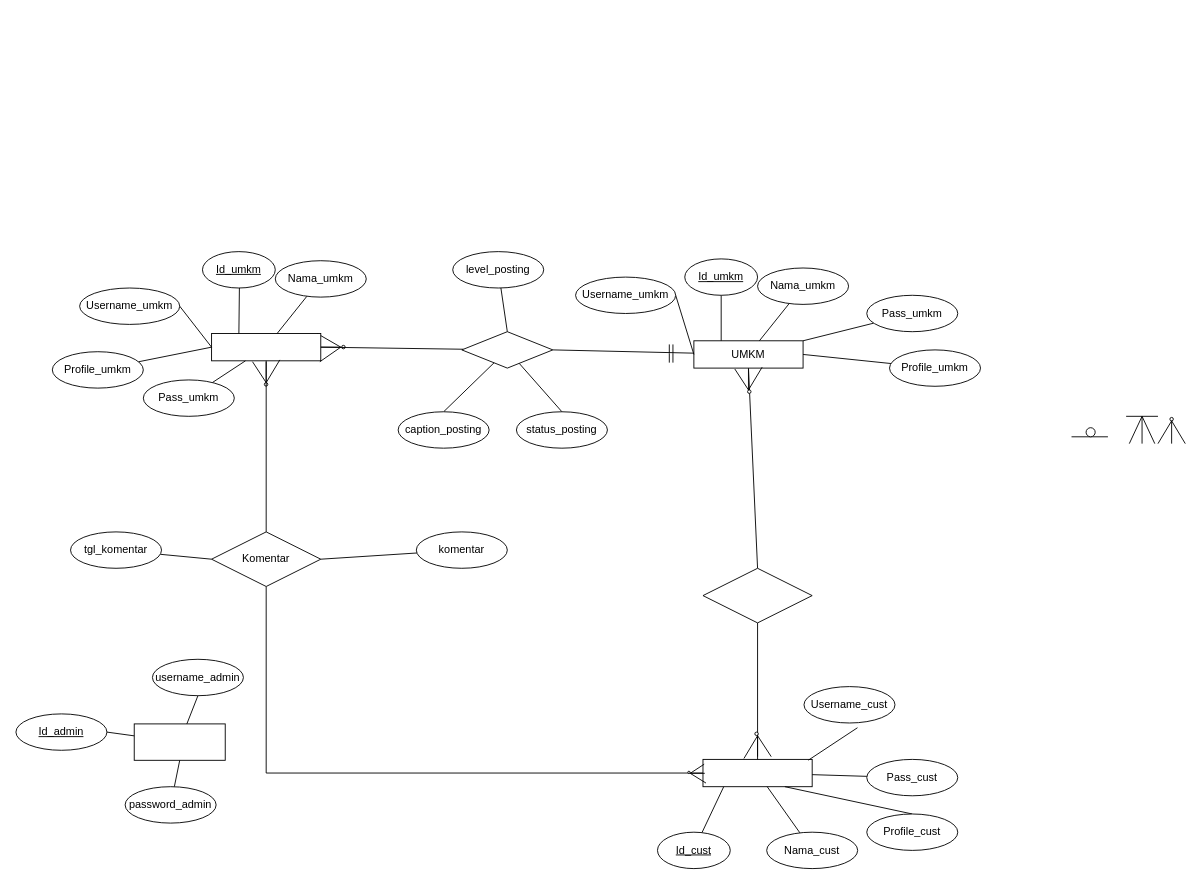
Image size: 1202x885. Some labels were removed from this diagram. The centre of each missing label's shape, as x and y in pixels:
Admin: the point at 179,741
Customer: the point at 757,772
Follow: the point at 757,595
Posting: the point at 507,349
Postingan: the point at 266,347
